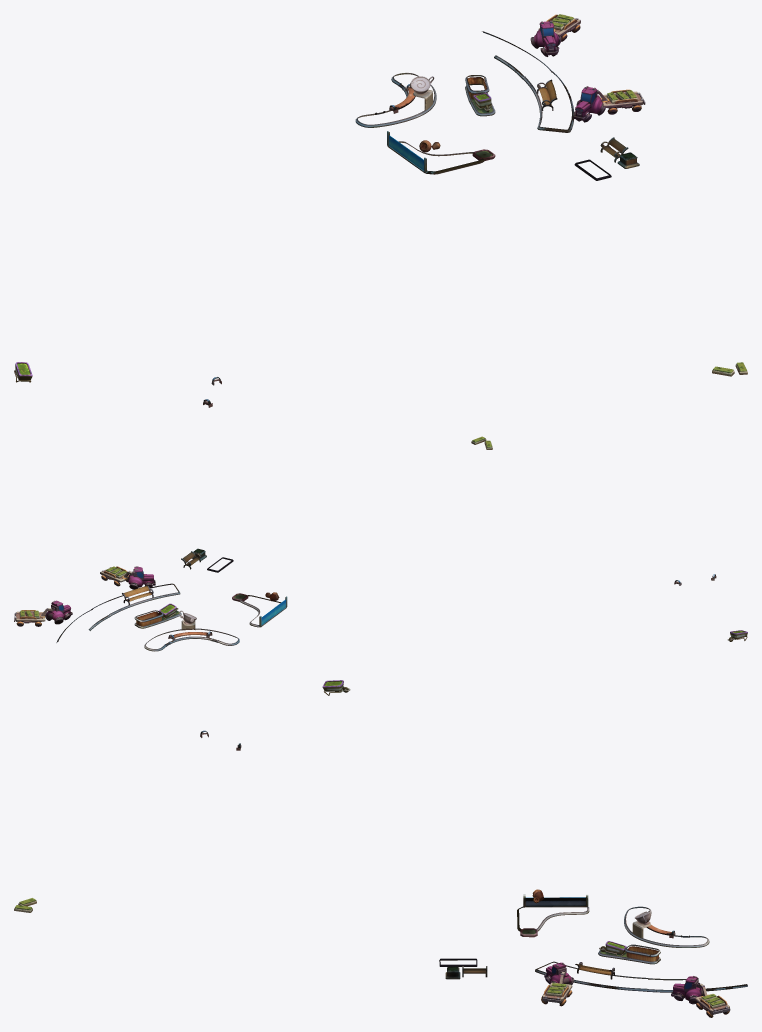
Rendered from pref_sm_garden_props_vray_002_lv2.fbx.
3 renders of one model, top to bottom at view 1: azimuth 30°, elevation 25°; view 2: azimuth 150°, elevation 25°; view 3: azimuth 270°, elevation 25°, orthographic. The views are drawn at different scales.
Parts seen in each view (by area): view 1: pref_sm_garden_props_vray_002_lv2; view 2: pref_sm_garden_props_vray_002_lv2; view 3: pref_sm_garden_props_vray_002_lv2.
Boxes of the visible parts, x1,y1,x2,y2 form: pref_sm_garden_props_vray_002_lv2: (14, 14, 747, 407); pref_sm_garden_props_vray_002_lv2: (14, 436, 747, 651); pref_sm_garden_props_vray_002_lv2: (14, 680, 747, 1017).
Bounding box in the file's own units: 96.71 × 3.62 × 90.75.
